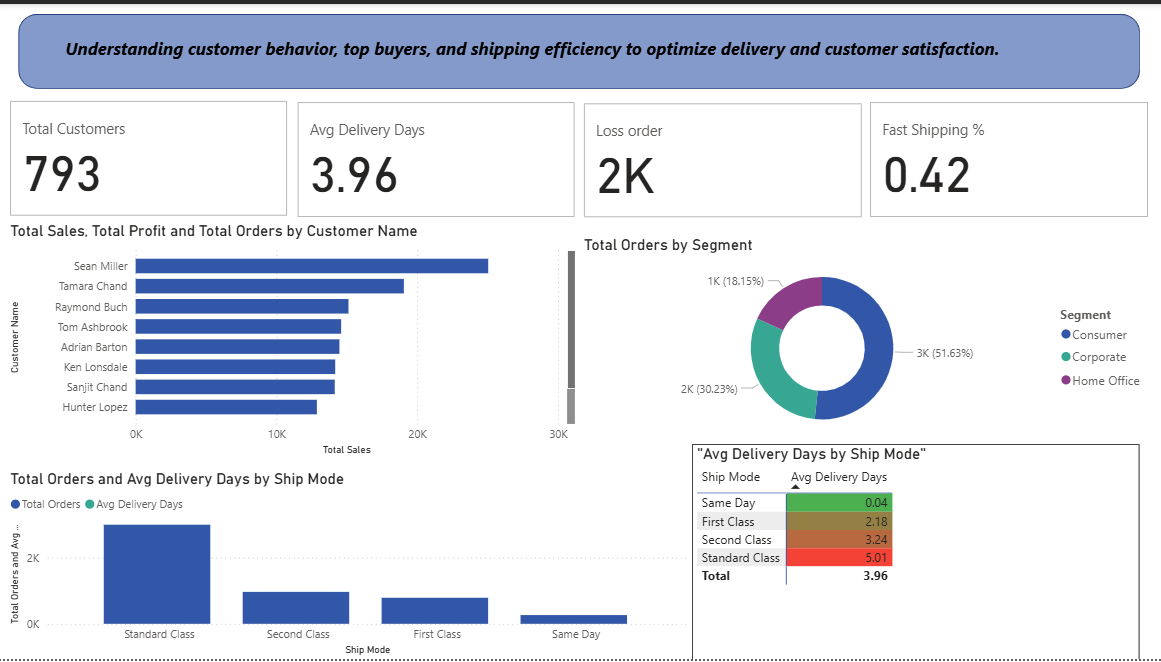

The dashboard page shown, as its layout file describes it:
{"tool":"powerbi","page":{"name":"Customer & Shipping","canvas":[1280,720],"ordinal":2},"visuals":[{"type":"shape","box":[23.6,11.2,1231.5,82.1],"z":0},{"type":"textbox","box":[69.7,31.1,1138.2,41.1],"z":1000},{"type":"cardVisual","fields":{"Data":["Sample - Superstore.Total Customers"]},"box":[10,102,314.7,136.8],"z":2000},{"type":"cardVisual","fields":{"Data":["Sample - Superstore.Fast Shipping %"]},"box":[953.9,103.5,316,136.8],"z":3000},{"type":"cardVisual","fields":{"Data":["Sample - Superstore.Loss order"]},"box":[639.4,104.5,316,135.6],"z":4000},{"type":"cardVisual","fields":{"Data":["Sample - Superstore.Avg Delivery Days"]},"box":[324.7,103.2,314.7,136.8],"z":5000},{"type":"clusteredBarChart","fields":{"Category":["Sample - Superstore.Customer Name"],"Y":["Sample - Superstore.Total Sales"]},"box":[10,238.8,629.4,261.2],"z":6000},{"type":"donutChart","fields":{"Category":["Sample - Superstore.Segment"],"Y":["Sample - Superstore.Total Orders"]},"box":[639.5,253.9,629.8,229.2],"z":7000},{"type":"lineStackedColumnComboChart","fields":{"Category":["Sample - Superstore.Ship Mode"],"Y":["Sample - Superstore.Total Orders","Sample - Superstore.Avg Delivery Days"]},"box":[9.6,510.5,753.3,209.9],"z":8000},{"type":"pivotTable","title":" \"Avg Delivery Days by Ship Mode\"","fields":{"Values":["Sample - Superstore.Avg Delivery Days"],"Rows":["Sample - Superstore.Ship Mode"]},"box":[763,483,491.3,237.4],"z":9000}]}

Visuals, with their boxes in screenshot pixels (x1, y1, x2, y2), scaled from the page's 1280x720 canvas onto the 1161x662 screenshot:
shape: (x1=21, y1=10, x2=1138, y2=86)
textbox: (x1=63, y1=29, x2=1096, y2=66)
cardVisual - Sample - Superstore.Total Customers: (x1=9, y1=94, x2=295, y2=220)
cardVisual - Sample - Superstore.Fast Shipping %: (x1=865, y1=95, x2=1152, y2=221)
cardVisual - Sample - Superstore.Loss order: (x1=580, y1=96, x2=867, y2=221)
cardVisual - Sample - Superstore.Avg Delivery Days: (x1=295, y1=95, x2=580, y2=221)
clusteredBarChart - Sample - Superstore.Customer Name x Sample - Superstore.Total Sales: (x1=9, y1=220, x2=580, y2=460)
donutChart - Sample - Superstore.Segment x Sample - Superstore.Total Orders: (x1=580, y1=233, x2=1151, y2=444)
lineStackedColumnComboChart - Sample - Superstore.Ship Mode x Sample - Superstore.Total Orders: (x1=9, y1=469, x2=692, y2=661)
" "Avg Delivery Days by Ship Mode"" pivotTable: (x1=692, y1=444, x2=1138, y2=661)
